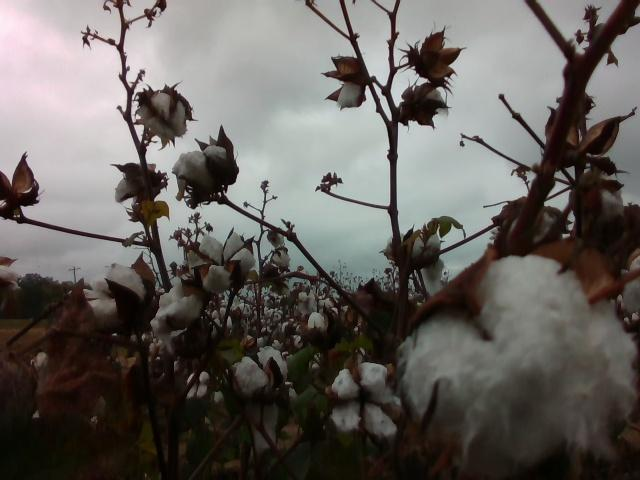cotton_ready: (403, 256, 640, 469), (234, 346, 298, 451), (332, 365, 401, 439), (183, 234, 255, 294), (85, 265, 149, 325), (153, 278, 207, 343), (173, 145, 229, 203), (285, 312, 336, 366), (500, 207, 566, 248), (387, 229, 445, 269), (143, 91, 188, 142), (399, 85, 447, 128), (114, 167, 159, 212), (589, 164, 624, 214), (615, 256, 640, 319), (334, 78, 368, 109)
